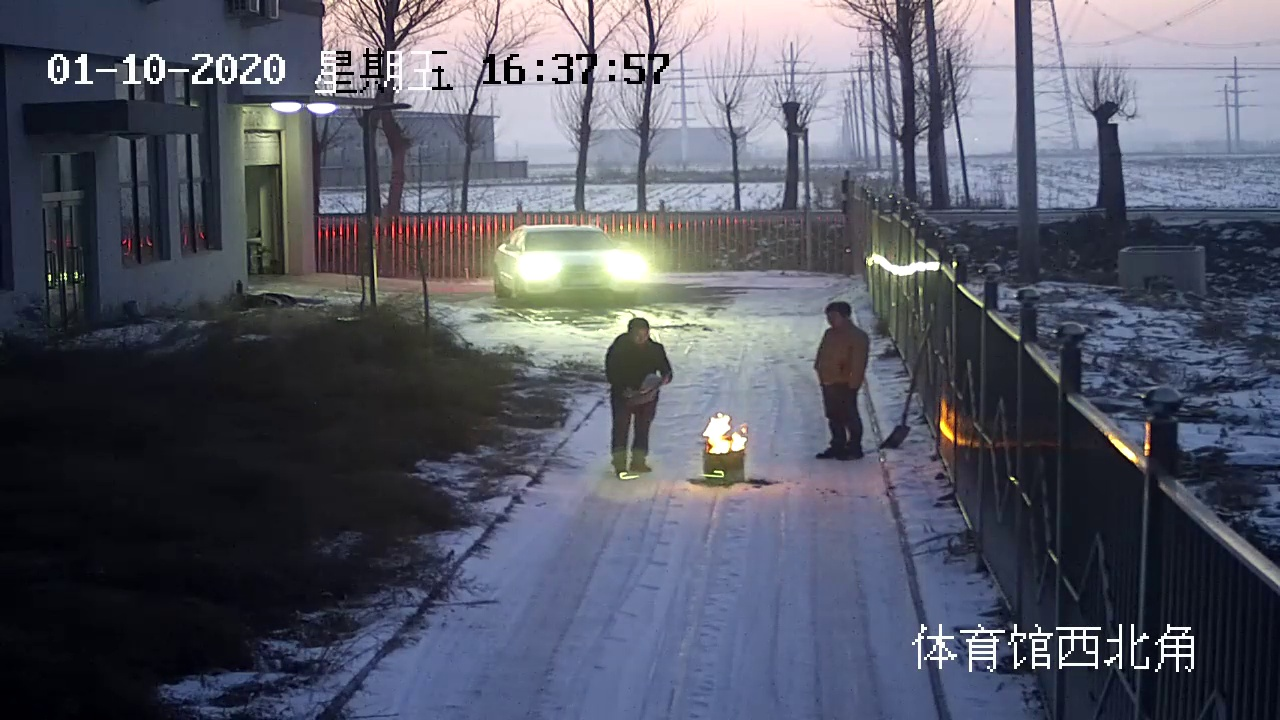fire: (699, 407, 749, 455)
